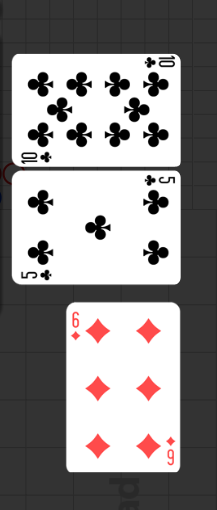10C: (20, 149, 54, 164)
5C: (20, 267, 54, 282)
6D: (165, 435, 176, 467)
